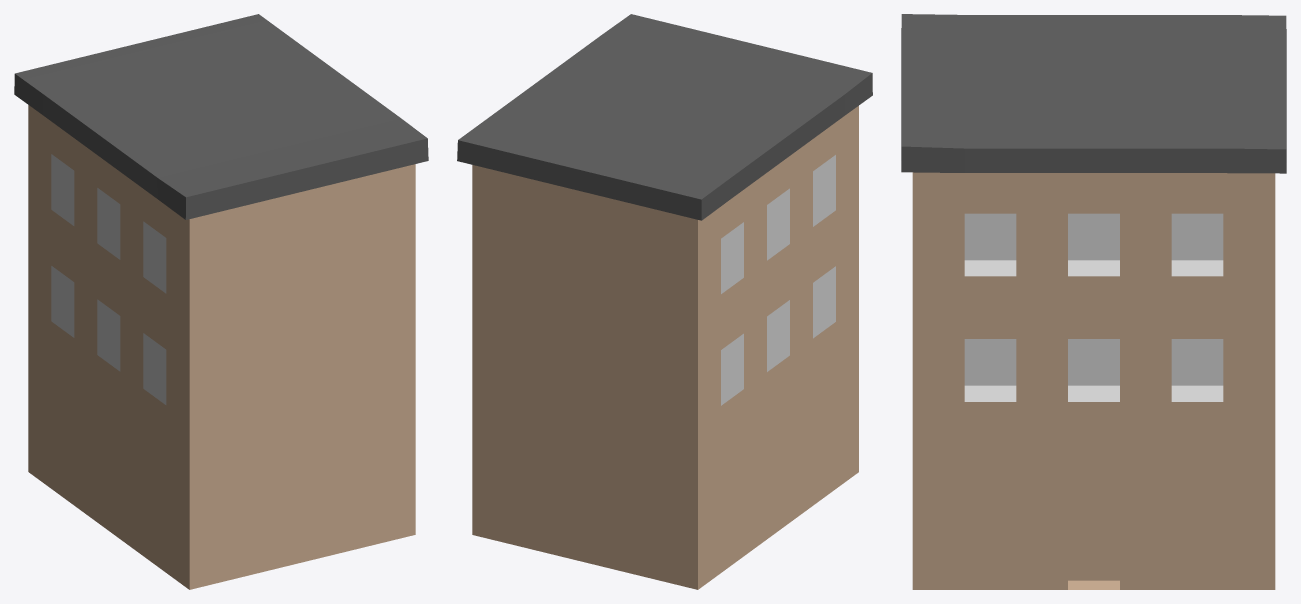
File: EdificioGenérico2.fbx
3 views of the same model, side by side, from view 1: azimuth 30°, elevation 25°; view 2: azimuth 150°, elevation 25°; view 3: azimuth 270°, elevation 25° (orthographic). The views are drawn at different scales.
Parts seen in each view (by area): view 1: Cube, Cube.005, Cube.004; view 2: Cube, Cube.005, Cube.004; view 3: Cube, Cube.005, Cube.004.
Boxes of the visible parts, x1,y1,x2,y2 form: Cube: [28, 105, 415, 589]; Cube.005: [14, 14, 428, 219]; Cube.004: [51, 154, 166, 404]; Cube: [472, 106, 858, 589]; Cube.005: [457, 14, 872, 220]; Cube.004: [721, 155, 835, 405]; Cube: [912, 172, 1275, 589]; Cube.005: [901, 14, 1286, 173]; Cube.004: [964, 213, 1223, 401].
Size of the model in its own units: 1550 by 2407 by 1878.
